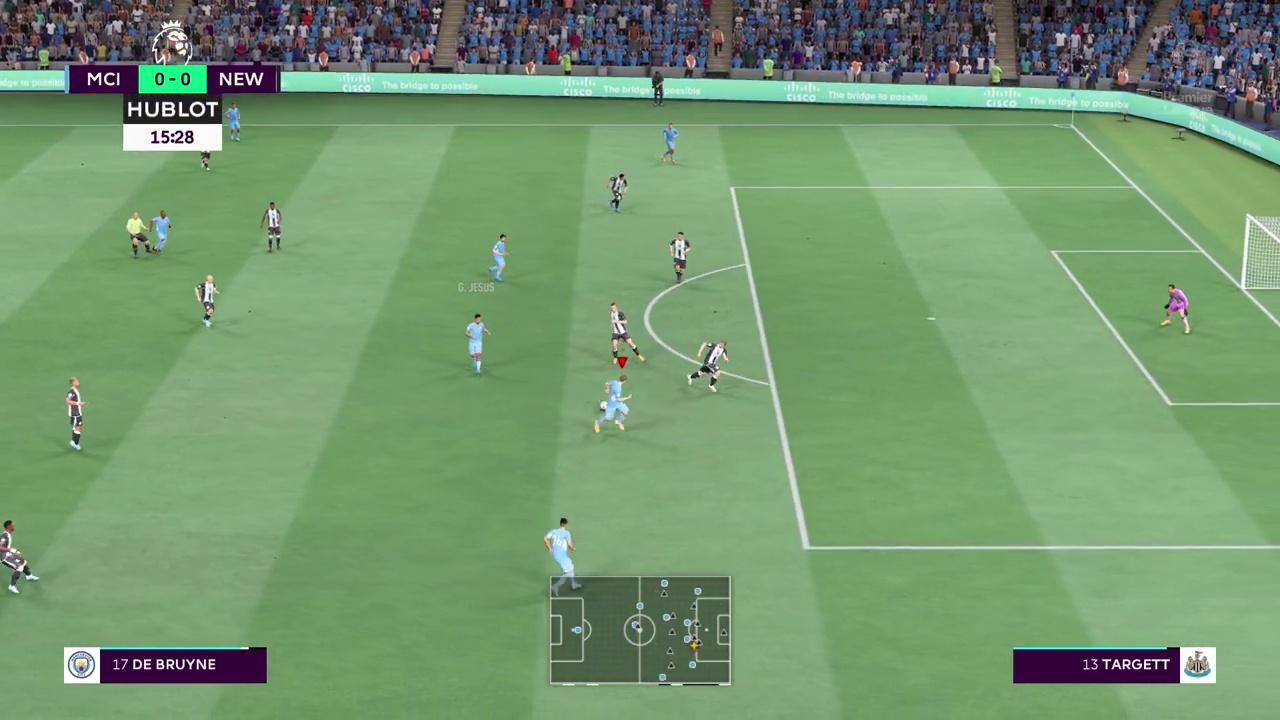scoreboard: (64, 65, 286, 94)
timestamp: (122, 124, 222, 150)
